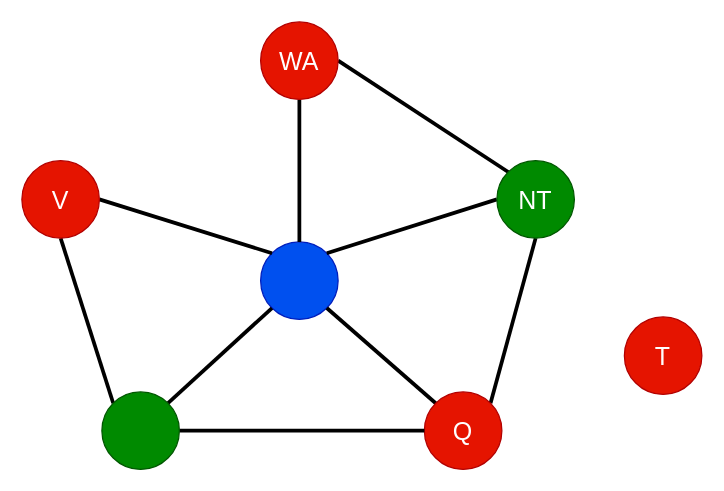
Image size: 724x491. Some labels were removed from this diagram. The shapes that lost their labels are listed below. From the top down, each one's centre as x and y in pixels, then its label:
At pixel 298 280: "SA".
At pixel 140 430: "NSW".
